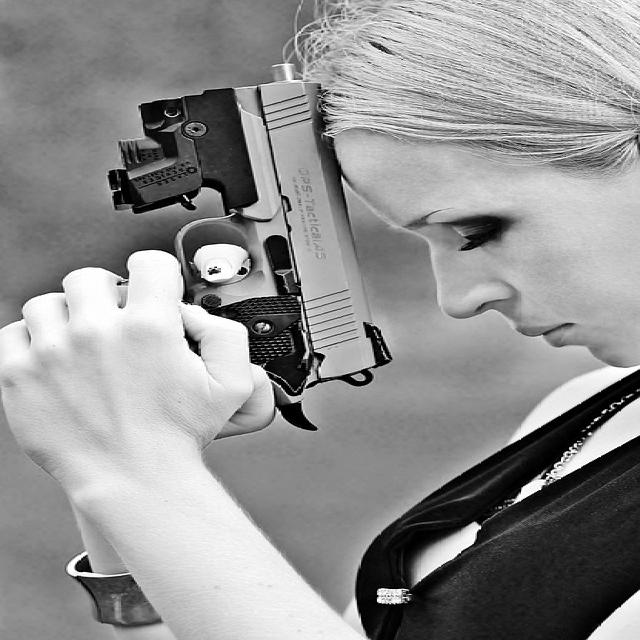pistol: (112, 62, 392, 431)
